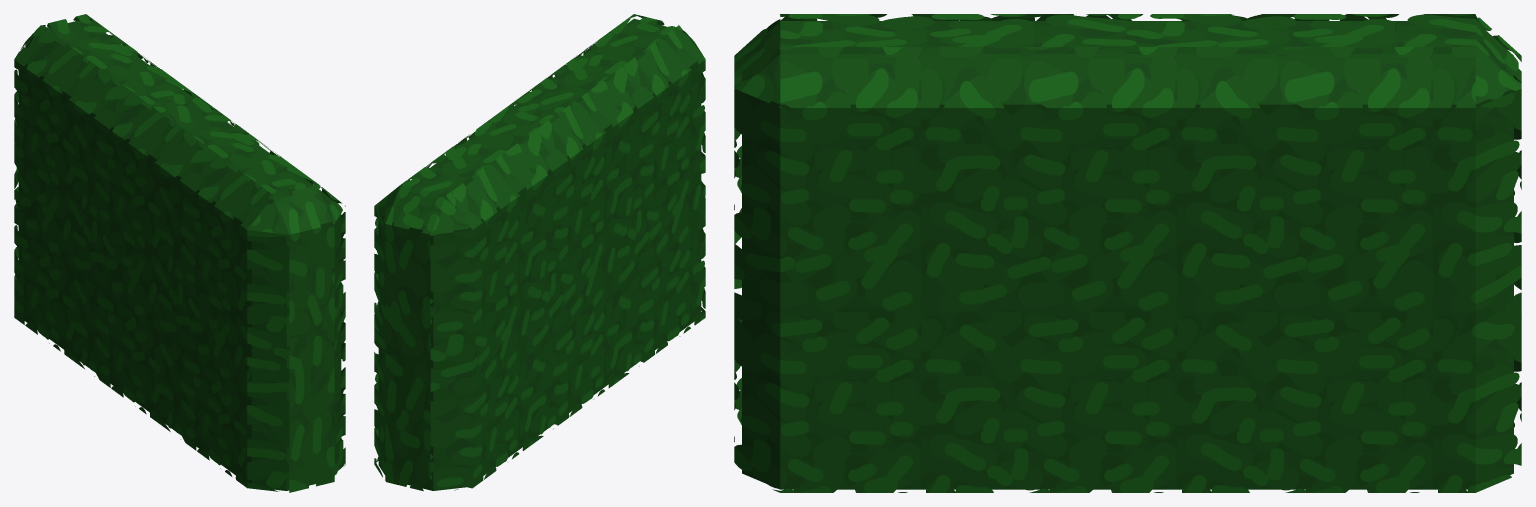
Rendered from Bush.fbx.
3 renders of one model, left to right at view 1: azimuth 30°, elevation 25°; view 2: azimuth 150°, elevation 25°; view 3: azimuth 270°, elevation 25°, orthographic. The views are drawn at different scales.
Parts seen in each view (by area): view 1: Bush; view 2: Bush; view 3: Bush.
Boxes of the visible parts, bbox=[...] form: Bush: bbox=[14, 14, 345, 492]; Bush: bbox=[374, 14, 705, 491]; Bush: bbox=[734, 14, 1521, 492].
Bounding box in the file's own units: 1020 × 610 × 220.
Materials: 2 (2 with a texture image).
